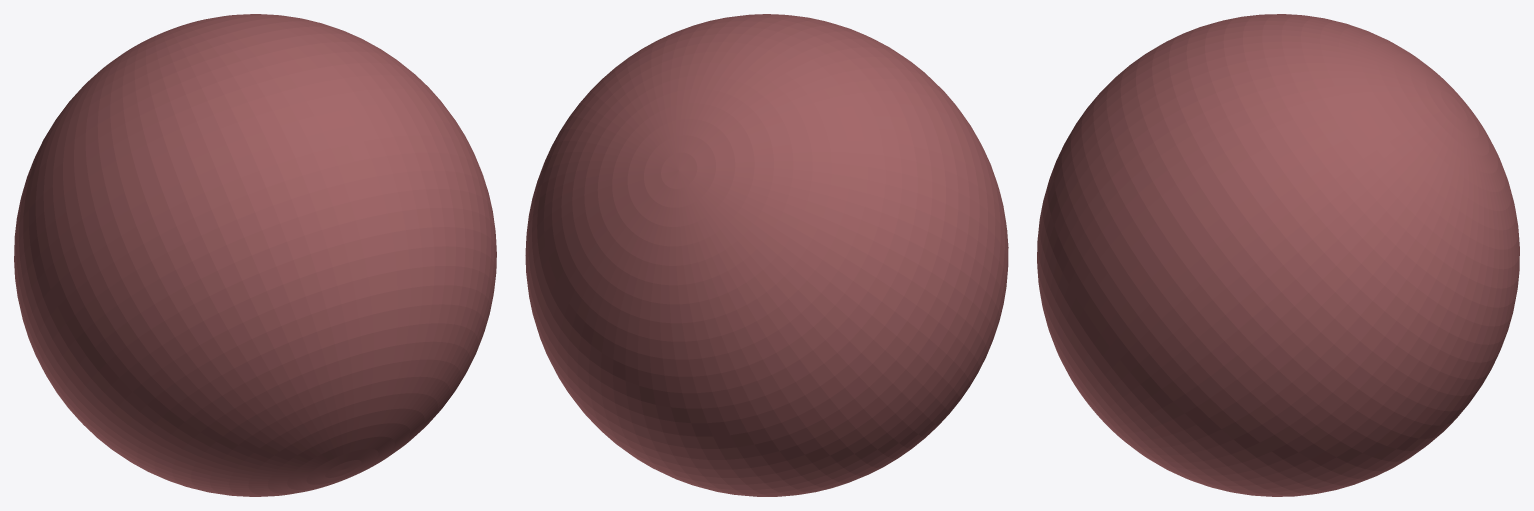
File: SPHERE_transparent.glb
3 renders of one model, left to right at view 1: azimuth 30°, elevation 25°; view 2: azimuth 150°, elevation 25°; view 3: azimuth 270°, elevation 25°, orthographic.
Visible parts, largest first — view 1: node_id3; view 2: node_id3; view 3: node_id3.
Part boxes in pixels (x1,y1,x2,y2): node_id3: [14, 14, 496, 496]; node_id3: [525, 14, 1008, 496]; node_id3: [1037, 14, 1519, 496].
Size of the model in its own units: 0.5114 by 0.5119 by 0.5118.
Materials: 1 (1 with a texture image).
